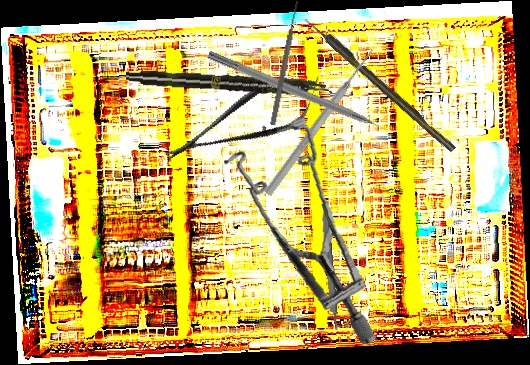Handpiece: (125, 67, 333, 100)
Hook Surgical: (303, 14, 457, 154)
Micro Scissor: (154, 60, 337, 180)
Pusher: (205, 49, 403, 143), (262, 46, 378, 198), (269, 0, 301, 126)
Scalpel Handle: (318, 201, 340, 332)
Speculum: (206, 107, 401, 346)
